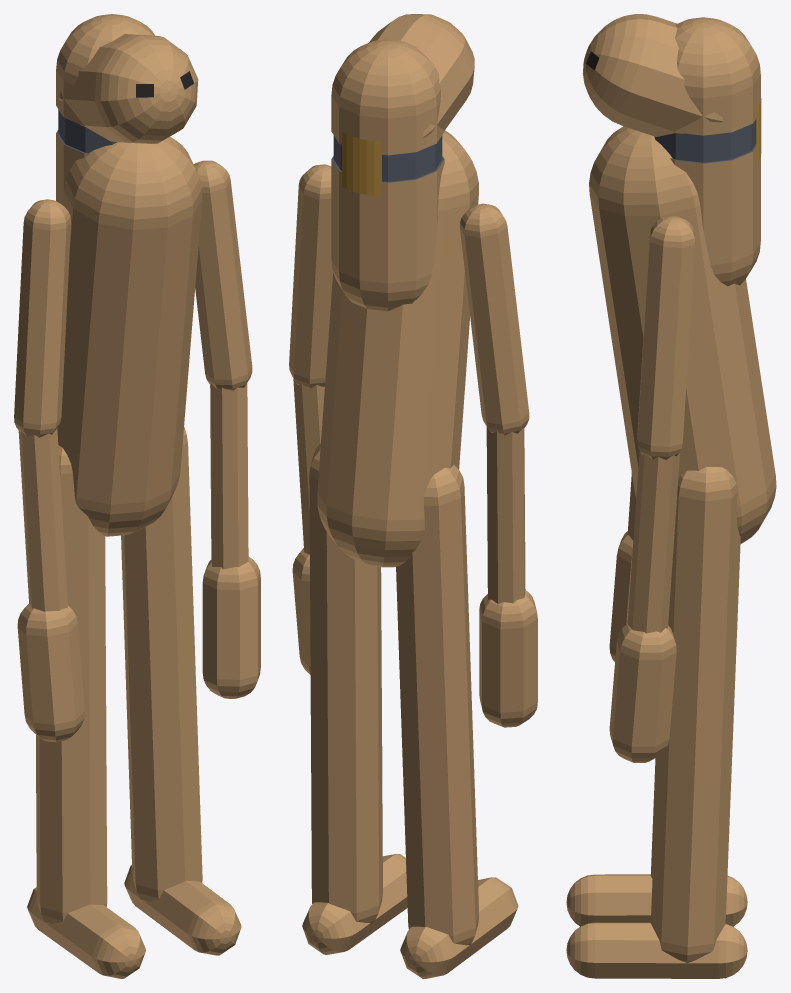
The model's file is titan-chorus.glb.
The picture shows the model from 3 angles, left to right: view 1: azimuth 30°, elevation 25°; view 2: azimuth 150°, elevation 25°; view 3: azimuth 270°, elevation 25°; orthographic projection. The views are drawn at different scales.
Parts seen in each view (by area): view 1: titan-chorus; view 2: titan-chorus; view 3: titan-chorus.
Boxes of the visible parts, bbox=[...] form: titan-chorus: bbox=[14, 14, 260, 978]; titan-chorus: bbox=[289, 14, 537, 978]; titan-chorus: bbox=[566, 14, 776, 978].
Size of the model in its own units: 2.7 by 10.03 by 2.04.
Materials: 1 (1 with a texture image).
